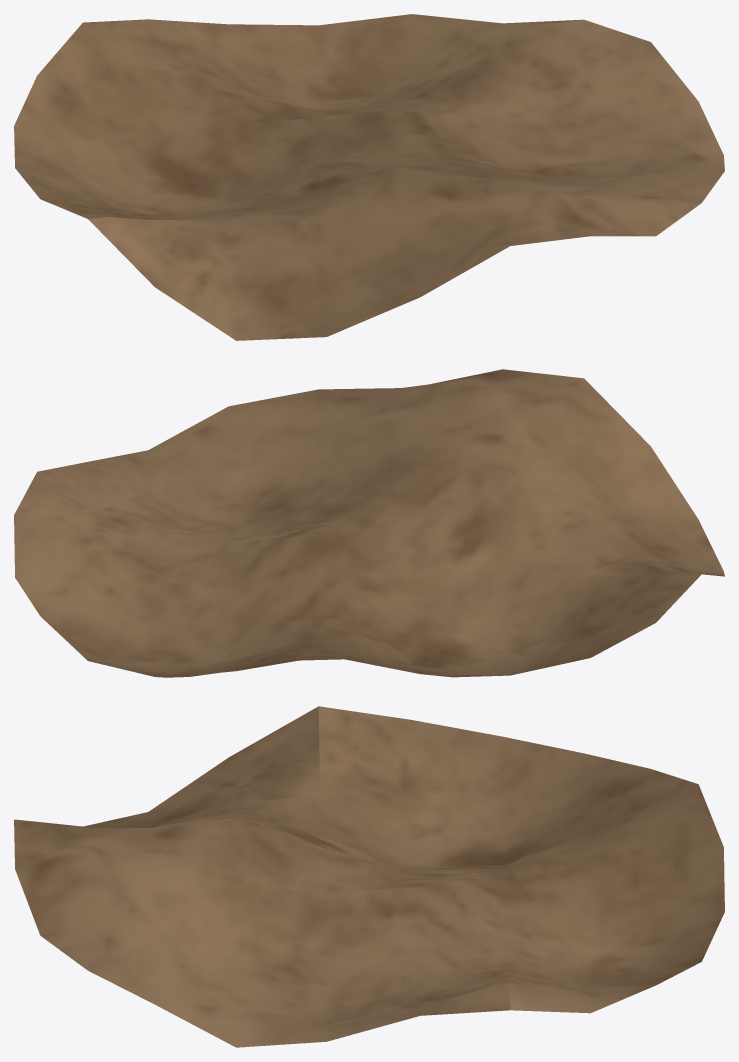
The model's file is Sand Fill.fbx.
3 views of the same model, one above another, from view 1: azimuth 30°, elevation 25°; view 2: azimuth 150°, elevation 25°; view 3: azimuth 270°, elevation 25° (orthographic).
Parts seen in each view (by area): view 1: Cylinder.004; view 2: Cylinder.004; view 3: Cylinder.004.
Part boxes in pixels (x1,y1,x2,y2): Cylinder.004: (14, 14, 724, 340); Cylinder.004: (14, 369, 724, 677); Cylinder.004: (14, 706, 724, 1047).
Size of the model in its own units: 36.13 by 5.65 by 36.13.
